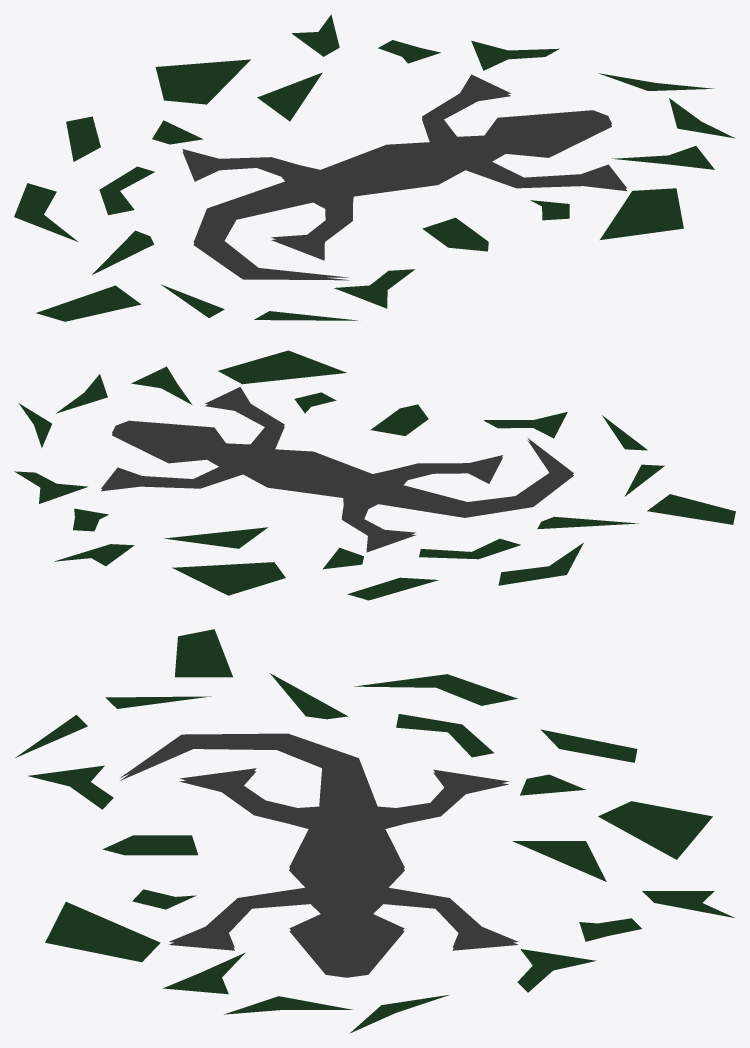
Rendered from Lagartija.fbx.
3 views of the same model, one above another, from view 1: azimuth 30°, elevation 25°; view 2: azimuth 150°, elevation 25°; view 3: azimuth 270°, elevation 25° (orthographic). The views are drawn at different scales.
Parts seen in each view (by area): view 1: Plane.080, Plane.091, Plane.113, Plane.084, Plane.120, Plane.108, Plane.096, Plane.105, Plane.099, Plane.093, Plane.111, Plane.112 (+29 smaller); view 2: Plane.080, Plane.113, Plane.091, Plane.084, Plane.120, Plane.108, Plane.096, Plane.105, Plane.099, Plane.112, Plane.111, Plane.093 (+29 smaller); view 3: Plane.113, Plane.091, Plane.084, Plane.120, Plane.080, Plane.108, Plane.096, Plane.099, Plane.105, Plane.111, Plane.093, Plane.092 (+29 smaller).
Part boxes in pixels (x1,y1,x2,y2): Plane.080: (182,94,626,280); Plane.091: (354,142,437,193); Plane.113: (600,188,683,239); Plane.084: (497,110,592,155); Plane.120: (155,59,250,104); Plane.108: (36,285,141,321); Plane.096: (207,181,312,216); Plane.105: (14,183,77,241); Plane.099: (193,208,257,267); Plane.093: (287,170,353,203); Plane.111: (422,217,488,251); Plane.112: (257,72,322,121); Plane.080: (101,404,573,552); Plane.113: (218,350,346,384); Plane.091: (243,451,371,485); Plane.084: (112,427,225,460); Plane.120: (172,562,285,595); Plane.108: (647,494,735,524); Plane.096: (378,485,467,515); Plane.105: (498,542,583,585); Plane.099: (465,472,550,515); Plane.112: (164,527,267,548); Plane.111: (371,404,428,435); Plane.093: (343,470,401,501); Plane.113: (45,902,160,962); Plane.091: (289,826,404,886); Plane.084: (290,913,404,971); Plane.120: (598,801,712,859); Plane.080: (120,746,518,977); Plane.108: (175,629,232,677); Plane.096: (319,758,377,806); Plane.099: (196,733,358,765); Plane.105: (354,674,517,705); Plane.111: (102,835,197,855); Plane.093: (288,806,383,826); Plane.092: (311,826,404,867).
Bounding box in the file's own units: 445 × 1.49 × 335.
